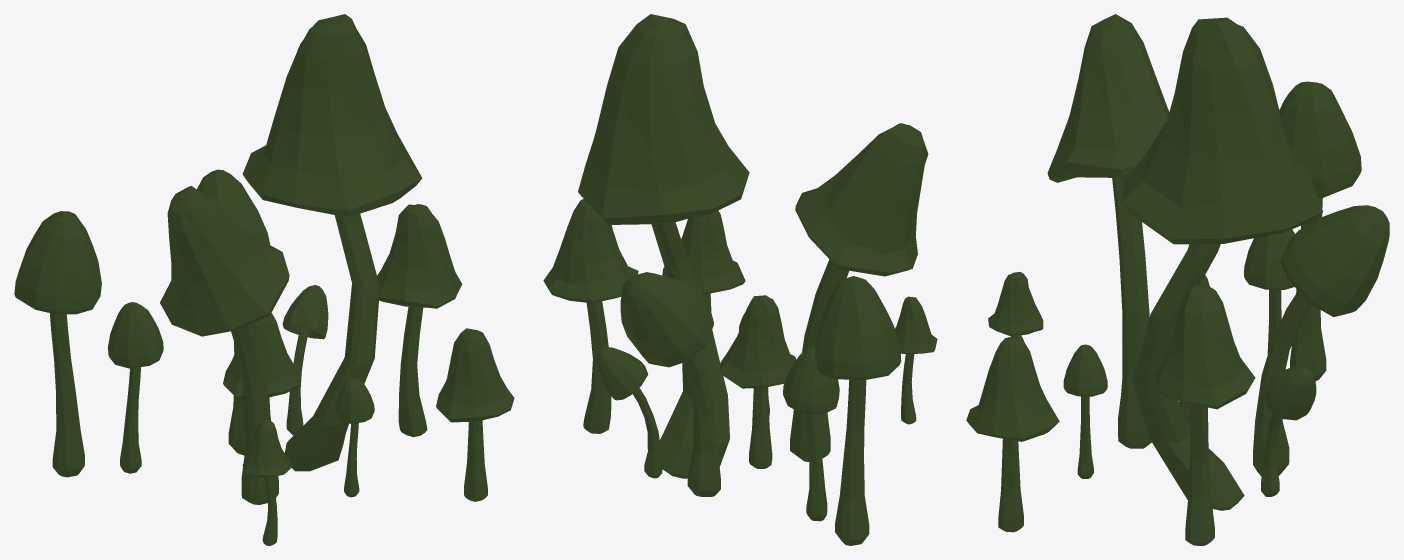
File: enchanted_SM_Env_Mushroom_Small_Group_04_Alt_01.gltf
3 views of the same model, side by side, from view 1: azimuth 30°, elevation 25°; view 2: azimuth 150°, elevation 25°; view 3: azimuth 270°, elevation 25° (orthographic). The views are drawn at different scales.
Parts seen in each view (by area): view 1: SM_Env_Mushroom_Small_Group_04_Alt_01_LOD0; view 2: SM_Env_Mushroom_Small_Group_04_Alt_01_LOD0; view 3: SM_Env_Mushroom_Small_Group_04_Alt_01_LOD0.
Boxes of the visible parts, x1,y1,x2,y2 form: SM_Env_Mushroom_Small_Group_04_Alt_01_LOD0: (14,14,514,545); SM_Env_Mushroom_Small_Group_04_Alt_01_LOD0: (543,14,937,545); SM_Env_Mushroom_Small_Group_04_Alt_01_LOD0: (966,14,1389,545).
Size of what is drawn, in the model's own units: 1.15 by 1.25 by 0.9588.
Materials: 1 (1 with a texture image).
